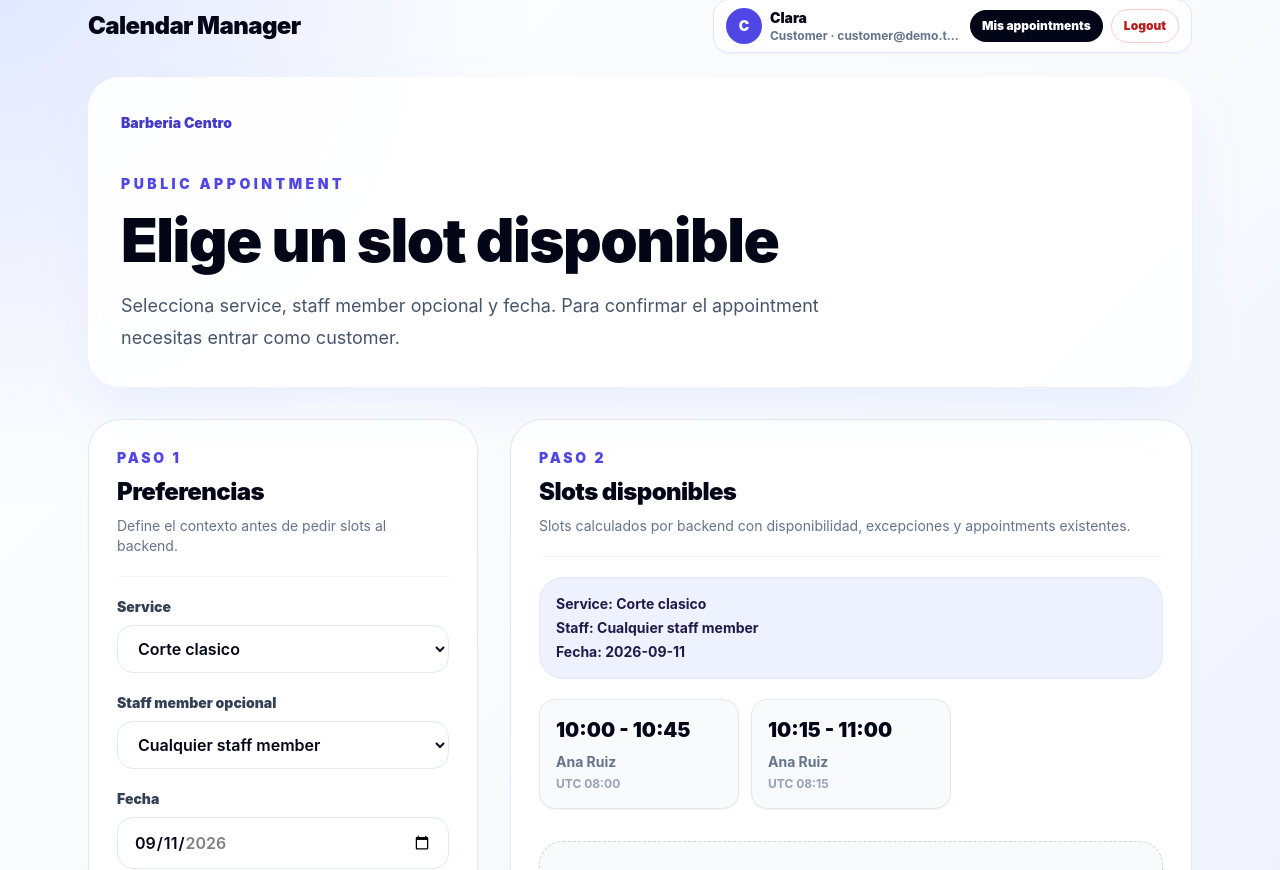
Test: appointment slot flow page › creates appointment when a customer session confirms a selected slot
Click the button "10:00 - 10:45 Ana Ruiz UTC 08:00": (639, 754) 539,699 -> 739,809
(page scrolled)
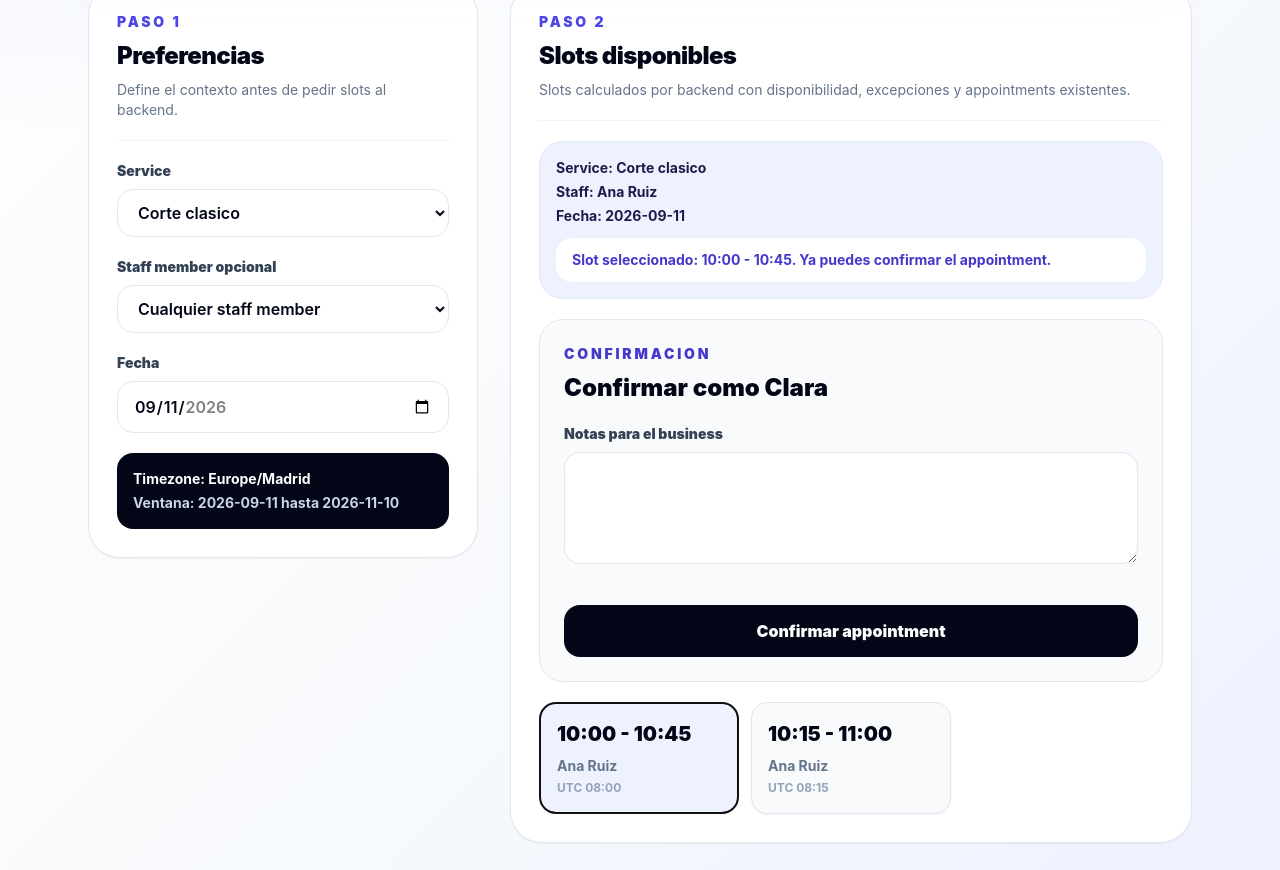
In the text box labelled "Notas para el business": (851, 508) 564,452 -> 1138,564, type "Notas del customer"
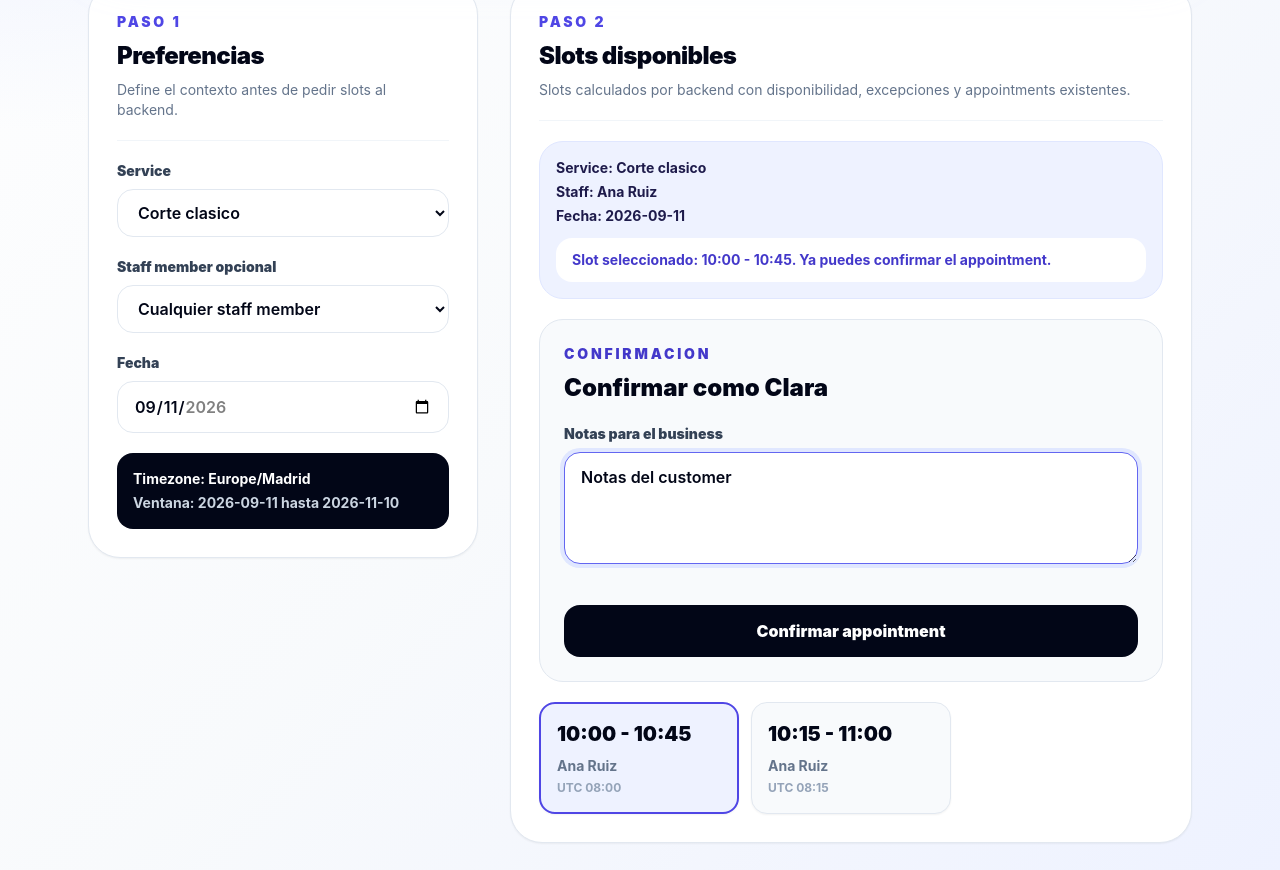
Click the button "Confirmar appointment": (851, 631) 564,605 -> 1138,657
(page scrolled)
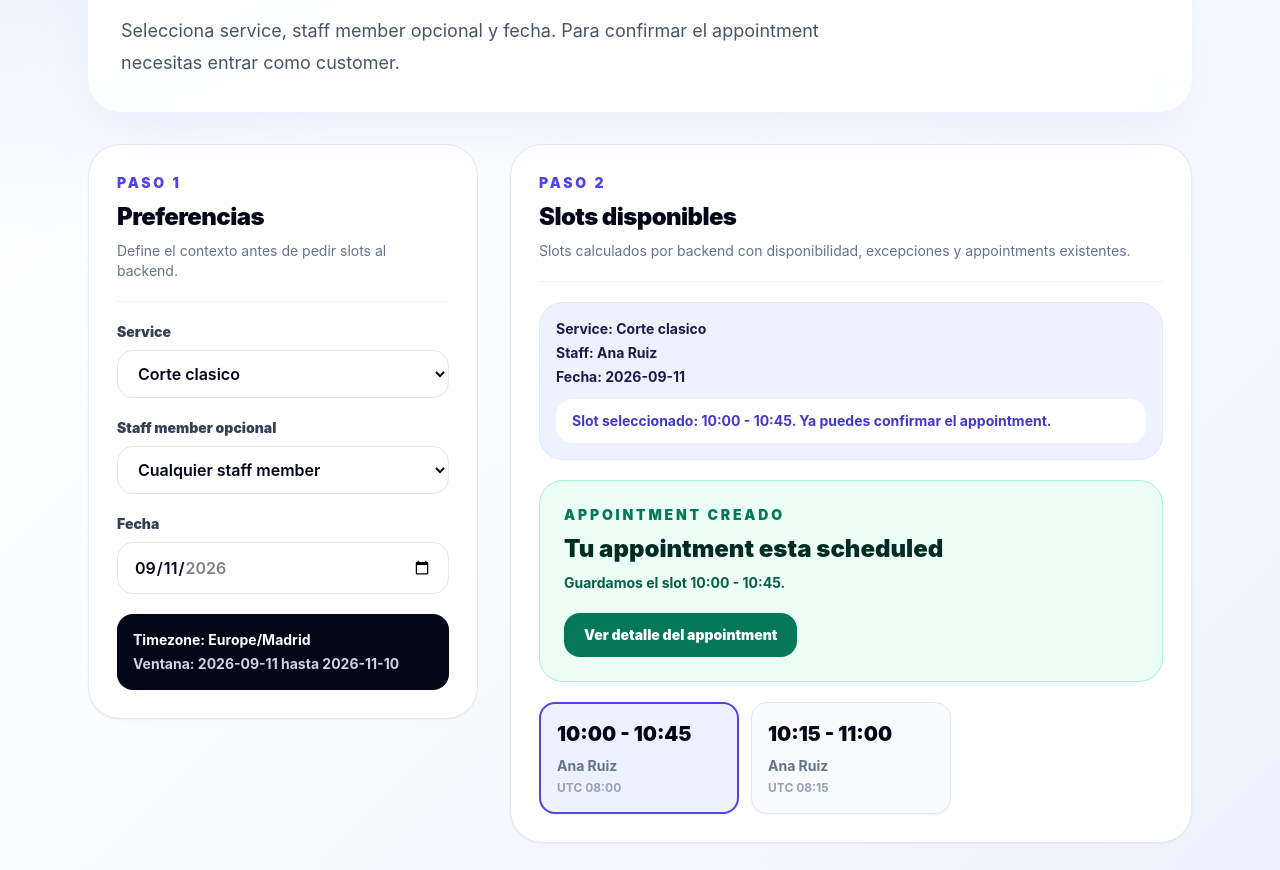
Result: the heading "Tu appointment esta scheduled" is shown at 564,534 -> 943,563
